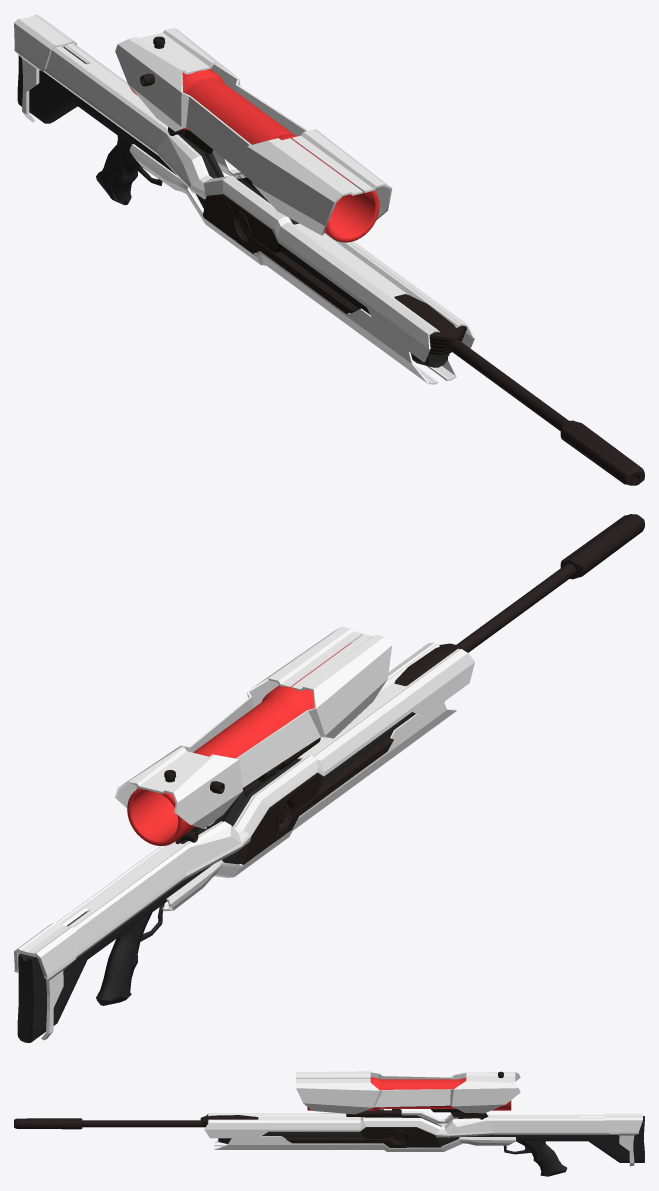
File: Snayperka.FBX
3 views of the same model, one above another, from view 1: azimuth 30°, elevation 25°; view 2: azimuth 150°, elevation 25°; view 3: azimuth 270°, elevation 25° (orthographic). The views are drawn at different scales.
Parts seen in each view (by area): view 1: Base2, Group001, Dulo, ChamferBox001, OpticalAimBase; view 2: Base2, Group001, Dulo, ChamferBox001, OpticalAimBase; view 3: Base2, Group001, Dulo, ChamferBox001, OpticalAimBase, Rot2.
Part boxes in pixels (<box>): Base2: <box>14,14,474,384</box>; Group001: <box>115,28,392,241</box>; Dulo: <box>202,194,644,485</box>; ChamferBox001: <box>17,47,449,367</box>; OpticalAimBase: <box>129,69,379,242</box>; Base2: <box>14,642,474,1040</box>; Group001: <box>115,626,392,843</box>; Dulo: <box>206,514,644,864</box>; ChamferBox001: <box>17,701,444,1042</box>; OpticalAimBase: <box>127,643,351,845</box>; Base2: <box>204,1111,642,1166</box>; Group001: <box>296,1071,520,1117</box>; Dulo: <box>14,1115,441,1147</box>; ChamferBox001: <box>218,1115,644,1176</box>; OpticalAimBase: <box>307,1077,511,1110</box>; Rot2: <box>390,1129,406,1143</box>.
Size of the model in its own units: 46.64 by 115 by 646.
